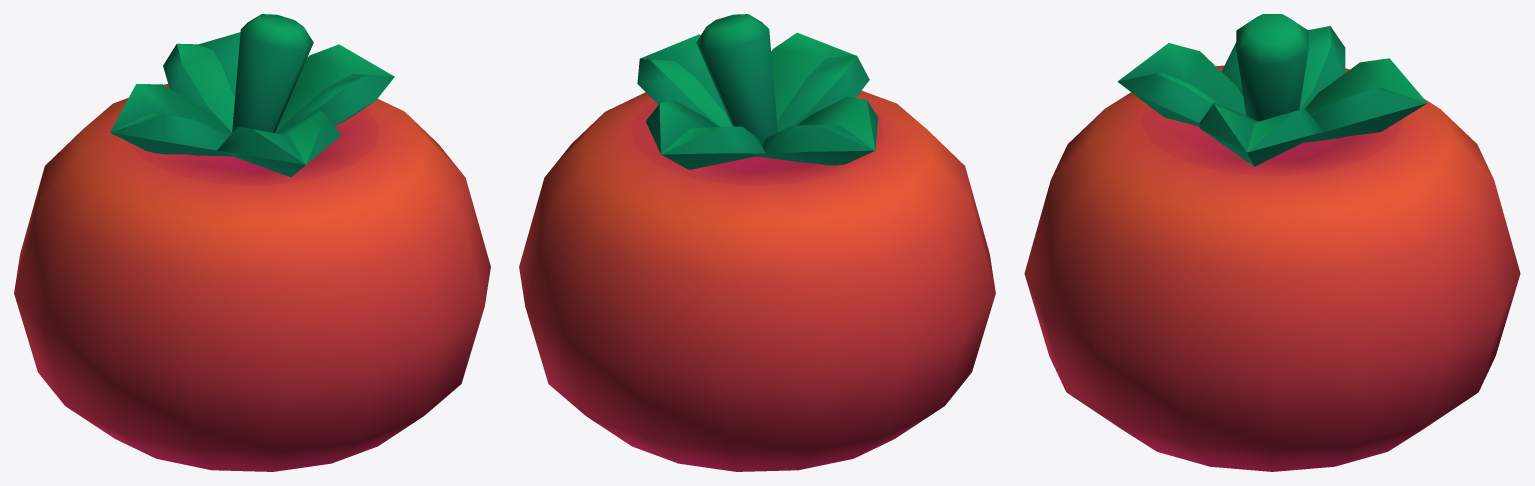
Rendered from ing_tomato.glb.
The picture shows the model from 3 angles, left to right: view 1: azimuth 30°, elevation 25°; view 2: azimuth 150°, elevation 25°; view 3: azimuth 270°, elevation 25°; orthographic projection. The views are drawn at different scales.
Parts seen in each view (by area): view 1: food_ingredient_tomato_Sphere.043; view 2: food_ingredient_tomato_Sphere.043; view 3: food_ingredient_tomato_Sphere.043.
Boxes of the visible parts, x1,y1,x2,y2 form: food_ingredient_tomato_Sphere.043: (14,14,490,471); food_ingredient_tomato_Sphere.043: (519,14,995,471); food_ingredient_tomato_Sphere.043: (1024,14,1520,471).
Bounding box in the file's own units: 0.75 × 0.7 × 0.75.
Materials: 1 (1 with a texture image).
